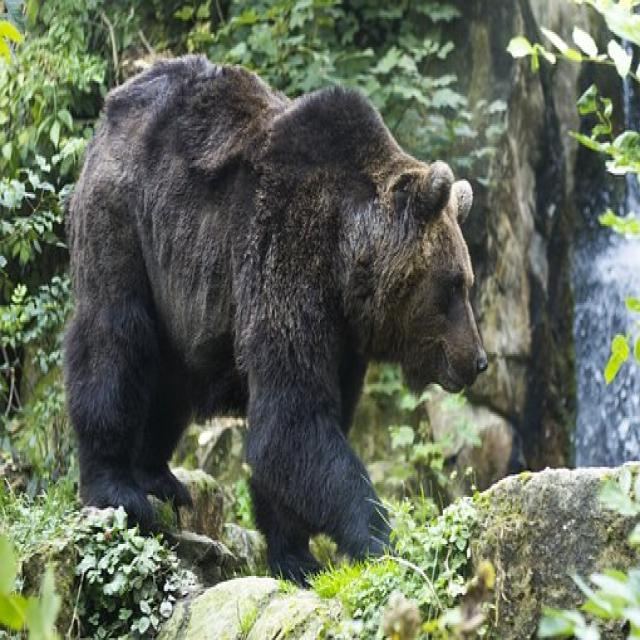Bear: (61, 55, 491, 591)
